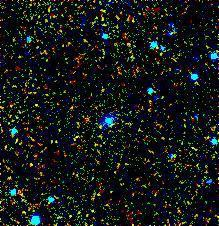star: (86, 110, 116, 140)
